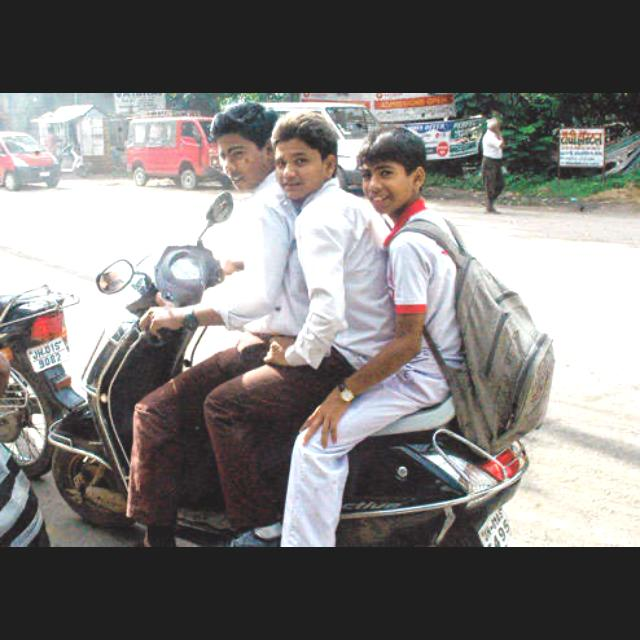Without Helmet: (202, 102, 274, 192)
